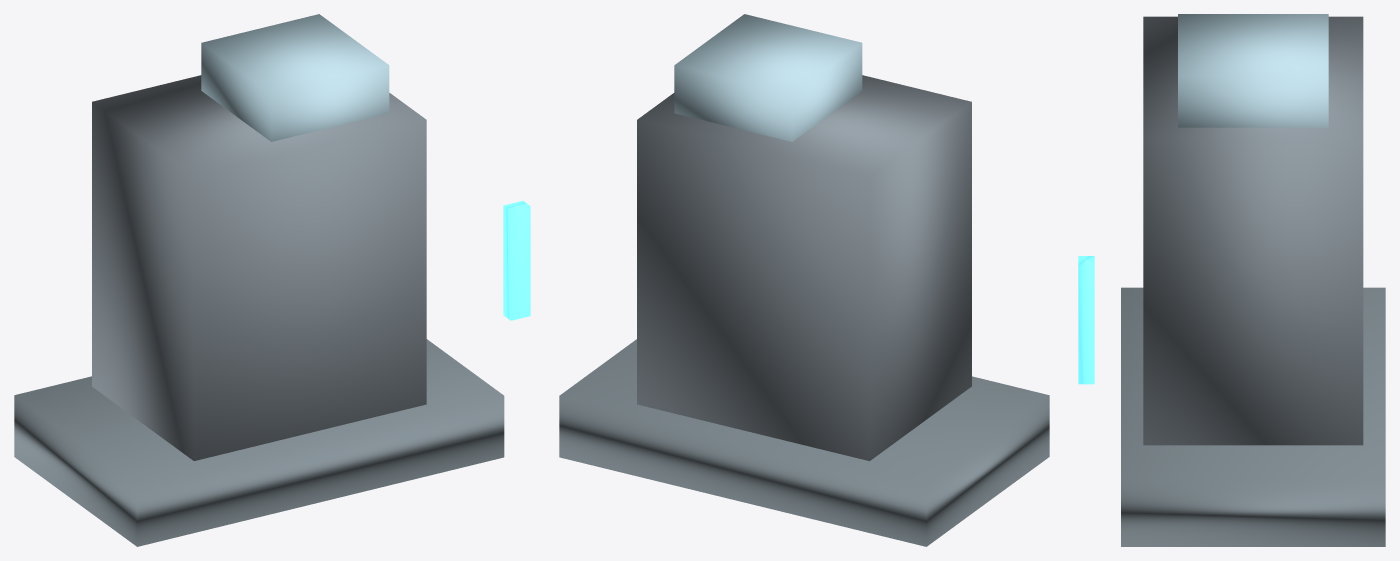
The model's file is ice-mine-cryo-pump-lod2.glb.
3 renders of one model, left to right at view 1: azimuth 30°, elevation 25°; view 2: azimuth 150°, elevation 25°; view 3: azimuth 270°, elevation 25°, orthographic. The views are drawn at different scales.
Parts seen in each view (by area): view 1: ice-mine-cryo-pump-housing, ice-mine-cryo-pump-skid, ice-mine-cryo-pump-cold-head, ice-mine-cryo-pump-status; view 2: ice-mine-cryo-pump-housing, ice-mine-cryo-pump-skid, ice-mine-cryo-pump-cold-head; view 3: ice-mine-cryo-pump-housing, ice-mine-cryo-pump-skid, ice-mine-cryo-pump-cold-head, ice-mine-cryo-pump-status.
Boxes of the visible parts, bbox=[...] form: ice-mine-cryo-pump-housing: bbox=[92, 75, 426, 460]; ice-mine-cryo-pump-skid: bbox=[14, 339, 504, 546]; ice-mine-cryo-pump-cold-head: bbox=[201, 14, 389, 141]; ice-mine-cryo-pump-status: bbox=[503, 201, 530, 320]; ice-mine-cryo-pump-housing: bbox=[637, 75, 971, 461]; ice-mine-cryo-pump-skid: bbox=[559, 339, 1049, 546]; ice-mine-cryo-pump-cold-head: bbox=[674, 14, 862, 141]; ice-mine-cryo-pump-housing: bbox=[1143, 16, 1363, 445]; ice-mine-cryo-pump-skid: bbox=[1121, 287, 1385, 546]; ice-mine-cryo-pump-cold-head: bbox=[1178, 14, 1328, 127]; ice-mine-cryo-pump-status: bbox=[1078, 256, 1094, 384].
Size of the model in its own units: 2.28 by 2.3 by 1.51.
